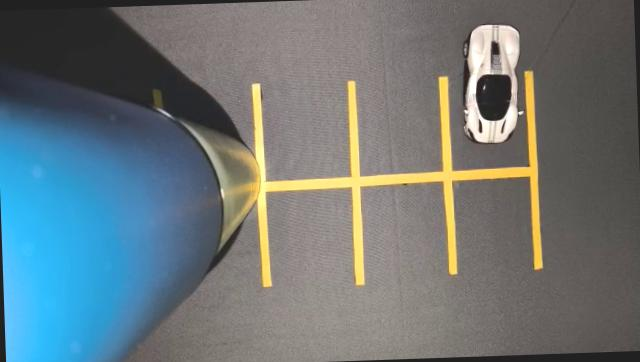toy_car: (440, 14, 550, 159)
